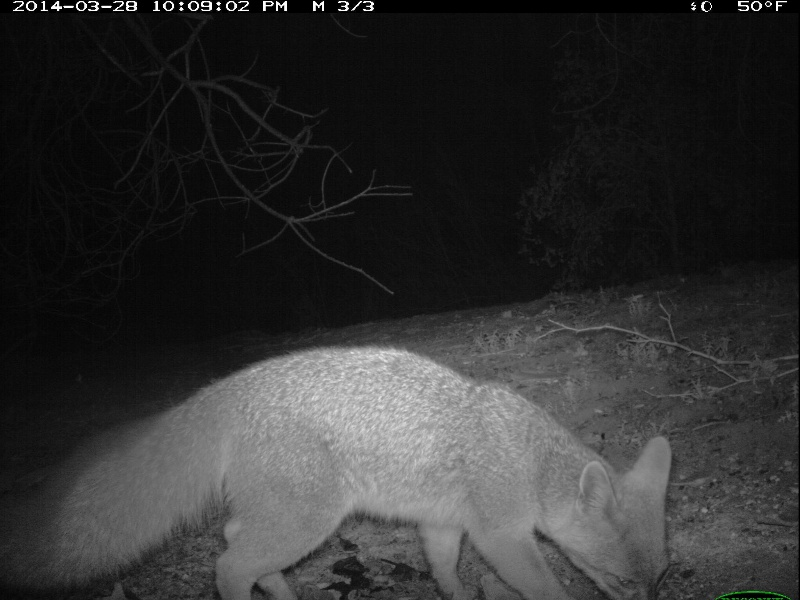fox: (8, 334, 684, 598)
